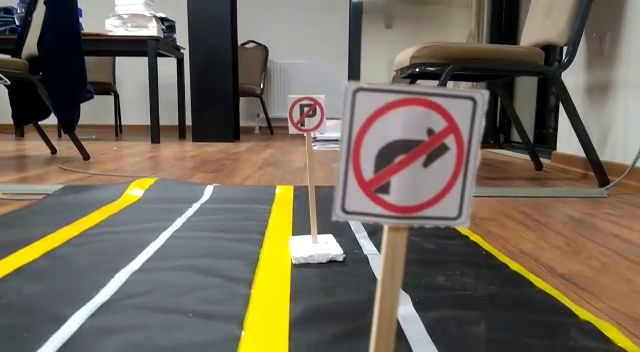park_yapilmaz: (287, 93, 326, 132)
saga_donulmez: (348, 86, 466, 220)
